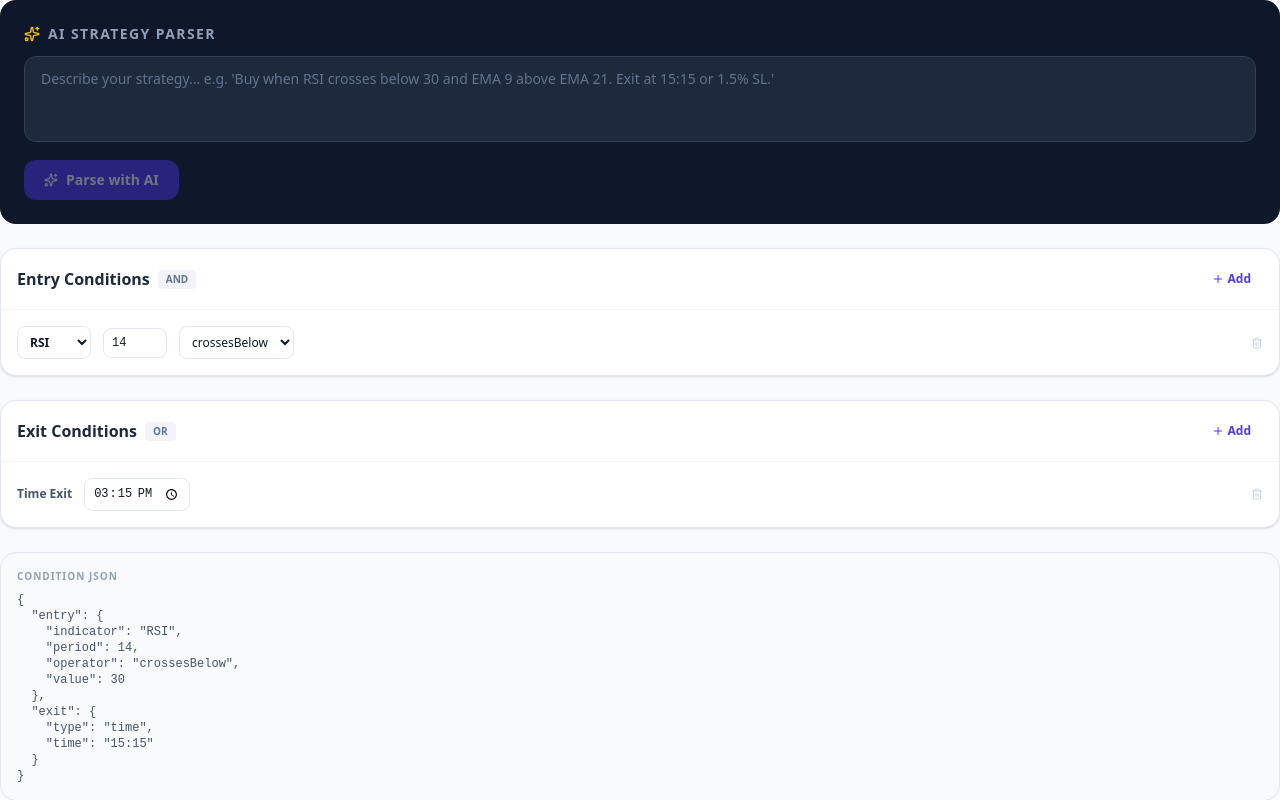
ConditionBuilder › Parse with AI button enables when text is typed
Step 1. Replace the text in the text box with placeholder "Describe your strategy" with "Buy when RSI < 30" → (640, 99), box x1=24 y1=56 x2=1256 y2=142
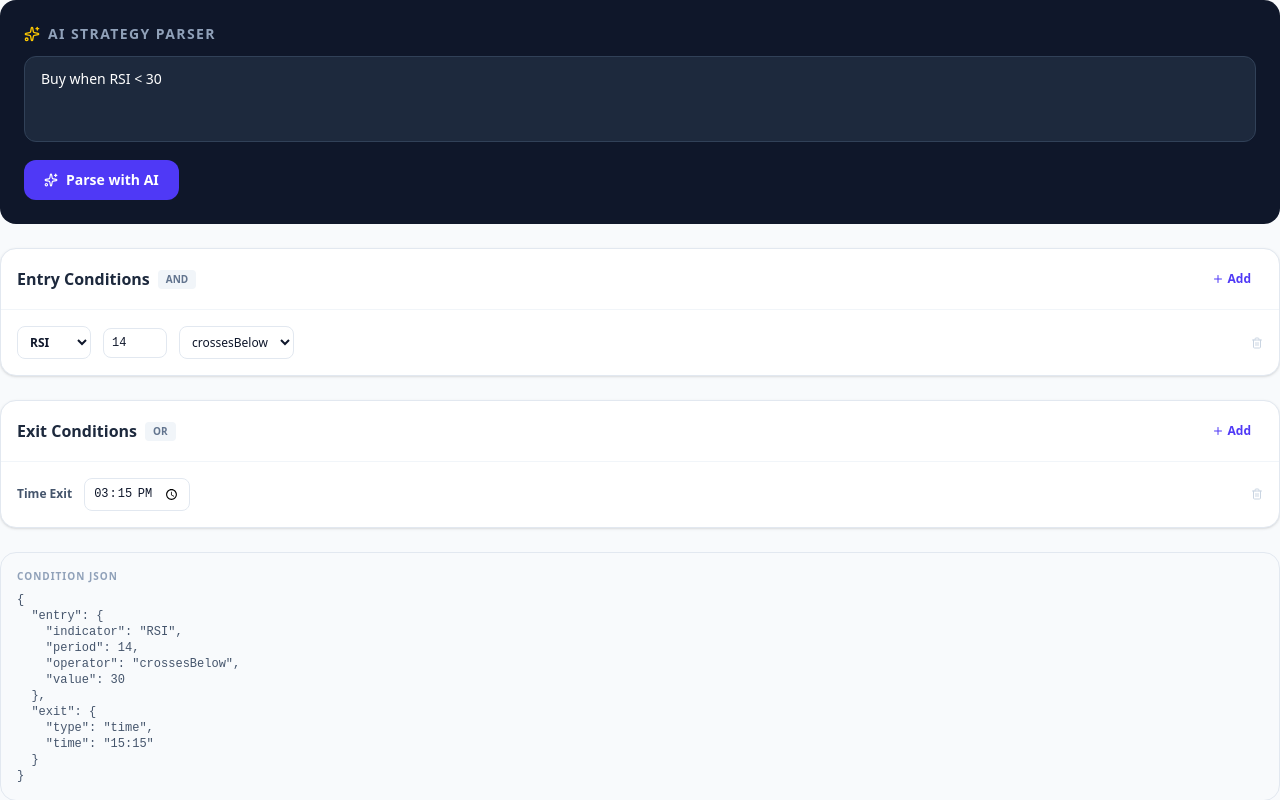
Now the button "Parse with AI" is enabled, box x1=24 y1=160 x2=179 y2=200
